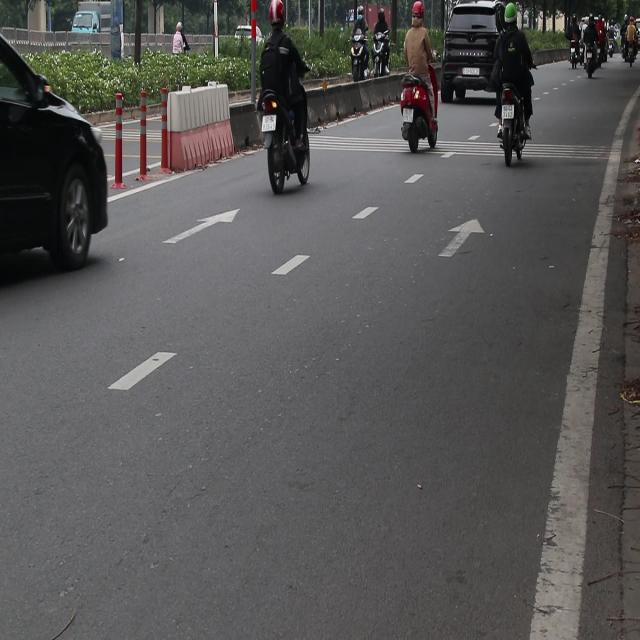car: (0, 9, 110, 306), (443, 2, 507, 105)
motorbike: (250, 82, 312, 184), (399, 71, 440, 153), (498, 93, 532, 165), (346, 33, 370, 90), (595, 38, 609, 84), (375, 28, 385, 83), (570, 38, 585, 71), (586, 48, 598, 85), (618, 31, 630, 67), (626, 36, 636, 79)
truck: (72, 11, 102, 33)
